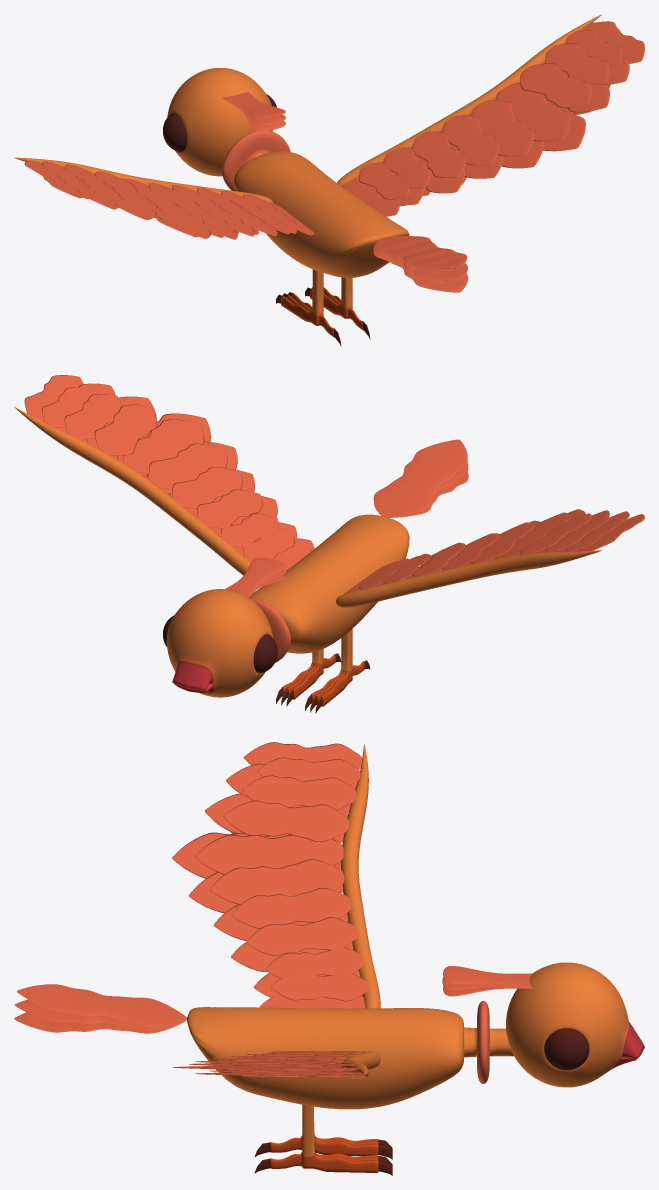
File: birdPrototype_b_v044.fbx
3 views of the same model, one above another, from view 1: azimuth 30°, elevation 25°; view 2: azimuth 150°, elevation 25°; view 3: azimuth 270°, elevation 25° (orthographic). The views are drawn at different scales.
Parts seen in each view (by area): view 1: Bird; view 2: Bird; view 3: Bird.
Boxes of the visible parts, left/top/right/bottom form: Bird: left=14, top=14, right=644, bottom=346; Bird: left=14, top=375, right=644, bottom=713; Bird: left=14, top=742, right=644, bottom=1175.
Size of the model in its own units: 12.24 by 4.42 by 9.82.
